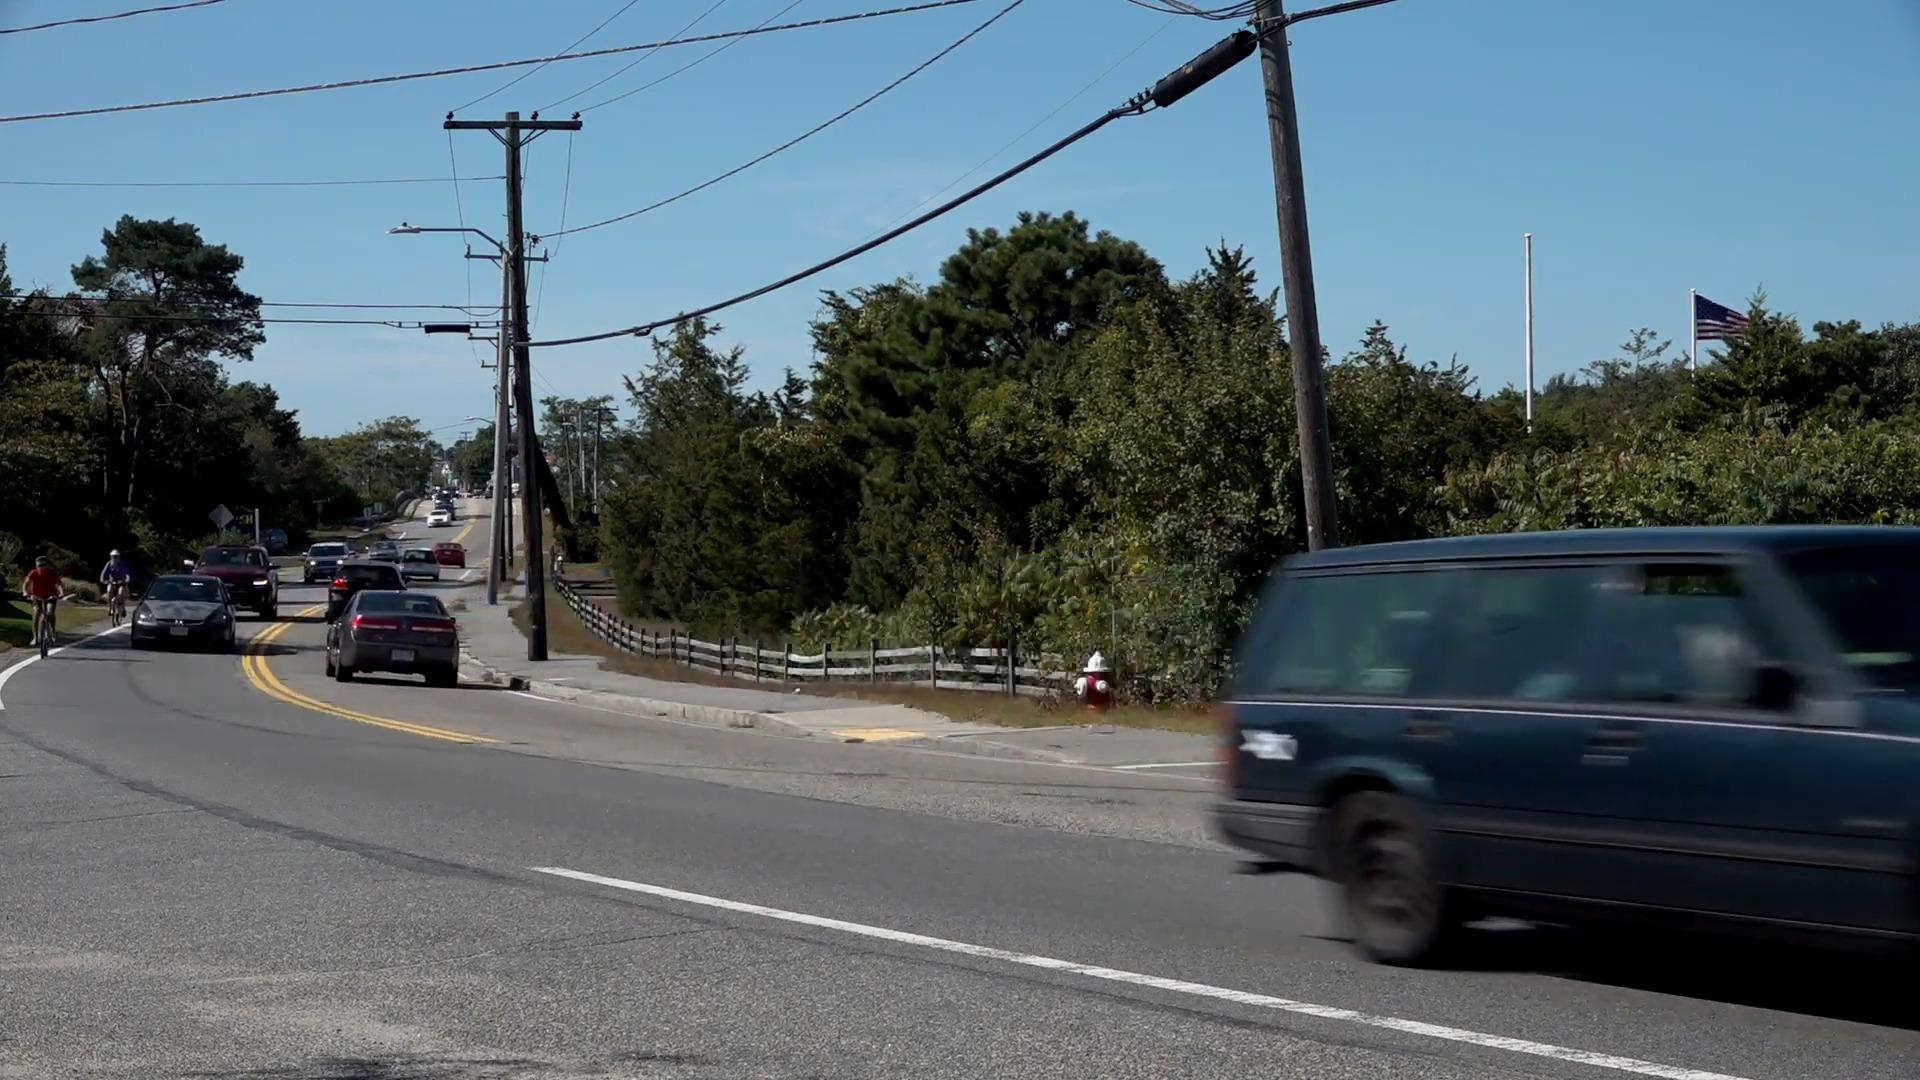sedans: (327, 589, 463, 690), (133, 572, 236, 653)
suv: (1218, 513, 1920, 988)
